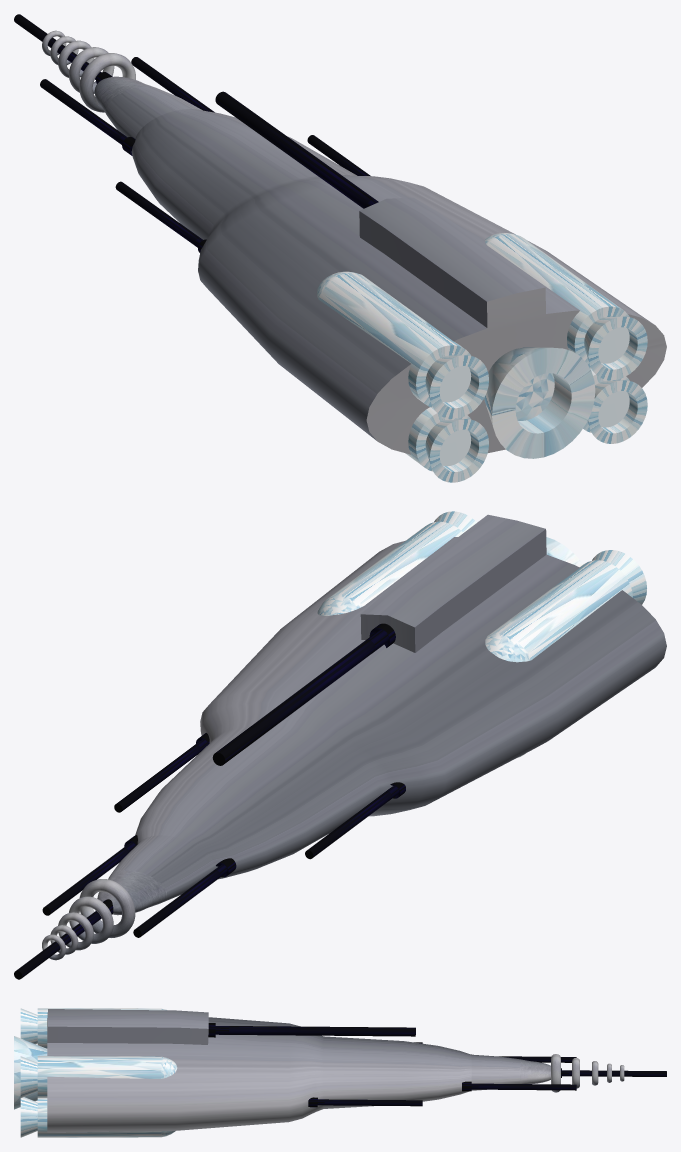
Rendered from master.gltf.
3 views of the same model, one above another, from view 1: azimuth 30°, elevation 25°; view 2: azimuth 150°, elevation 25°; view 3: azimuth 270°, elevation 25° (orthographic). The views are drawn at different scales.
Visible parts, largest first — view 1: Sphere, Sphere.004, Cone, Sphere.003, Sphere.005, Sphere.006, Cylinder.005, Torus.006, Cylinder.001, Cylinder.003, Cylinder.002, Torus.008 (+1 smaller); view 2: Sphere, Sphere.004, Sphere.003, Cylinder.005, Torus.006, Cylinder.001, Cylinder.003, Cylinder.004, Cylinder.002, Cylinder.000, Torus.008; view 3: Sphere, Sphere.003, Cylinder.005, Sphere.006, Sphere.004, Cone, Cylinder.002, Cylinder.004, Cylinder.000, Torus.006, Cylinder.001, Torus.008.
Part boxes in pixels (box(x1,y1,x2,y2)): Sphere: box(94, 76, 666, 454); Sphere.004: box(317, 271, 488, 418); Cone: box(484, 347, 595, 458); Sphere.003: box(485, 233, 647, 380); Sphere.005: box(405, 407, 488, 482); Sphere.006: box(583, 369, 647, 443); Cylinder.005: box(215, 91, 378, 208); Torus.006: box(79, 53, 135, 112); Cylinder.001: box(40, 79, 135, 155); Cylinder.003: box(115, 181, 206, 252); Cylinder.002: box(131, 57, 214, 112); Torus.008: box(69, 47, 114, 93); Sphere: box(97, 514, 666, 915); Sphere.004: box(485, 550, 646, 662); Sphere.003: box(317, 511, 476, 615); Cylinder.005: box(212, 623, 395, 765); Torus.006: box(79, 879, 135, 937); Cylinder.001: box(133, 858, 236, 937); Cylinder.003: box(305, 782, 405, 859); Cylinder.004: box(114, 733, 209, 812); Cylinder.002: box(42, 835, 137, 915); Cylinder.000: box(14, 899, 113, 979); Torus.008: box(69, 896, 113, 943); Sphere: box(47, 1009, 550, 1132); Sphere.003: box(20, 1056, 177, 1098); Cylinder.005: box(208, 1023, 415, 1037); Sphere.006: box(20, 1097, 175, 1137); Sphere.004: box(20, 1008, 166, 1048); Cone: box(14, 1036, 47, 1109); Cylinder.002: box(462, 1081, 576, 1091); Cylinder.004: box(308, 1097, 422, 1107); Cylinder.000: box(561, 1068, 666, 1077); Torus.006: box(551, 1054, 560, 1092); Cylinder.001: box(471, 1054, 576, 1062); Torus.008: box(572, 1058, 579, 1088).
Size of the model in its own units: 15.79 by 7.92 by 47.99.
Materials: 12 (12 with a texture image).
